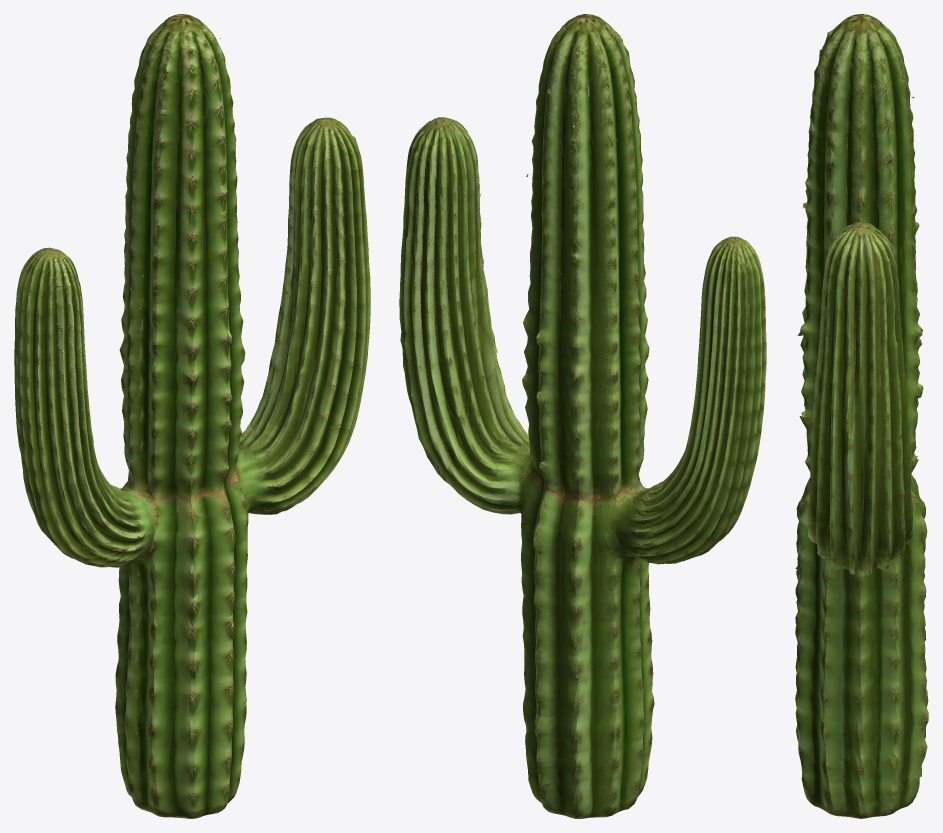
Rendered from veg_succulent_saguaro_01.glb.
3 views of the same model, side by side, from view 1: azimuth 30°, elevation 25°; view 2: azimuth 150°, elevation 25°; view 3: azimuth 270°, elevation 25° (orthographic).
Visible parts, largest first — view 1: veg_succulent_saguaro_01; view 2: veg_succulent_saguaro_01; view 3: veg_succulent_saguaro_01.
Boxes of the visible parts, box(x1,y1,x2,y2) form: veg_succulent_saguaro_01: box(14, 14, 370, 818); veg_succulent_saguaro_01: box(399, 14, 766, 818); veg_succulent_saguaro_01: box(795, 14, 928, 818).
Bounding box in the file's own units: 18.09 × 38.83 × 6.
1 material, 1 textured.
